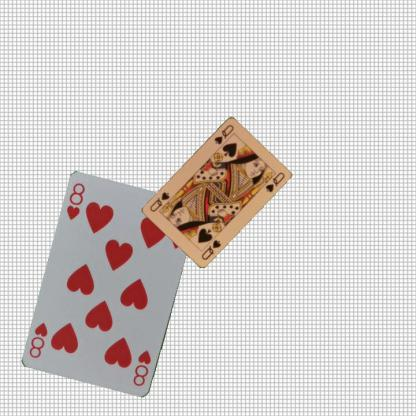8h: (64, 180, 87, 222), (130, 348, 152, 388)
Qs: (212, 122, 235, 146), (199, 237, 222, 261)
